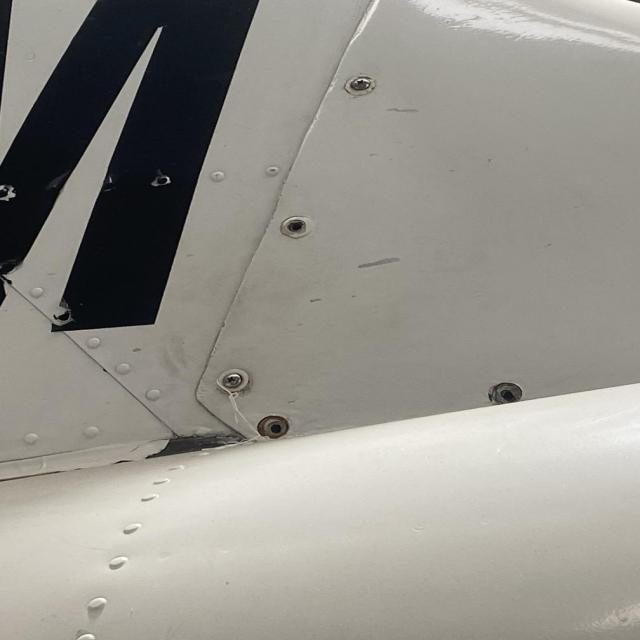Missing-head: (255, 416, 290, 439), (488, 382, 523, 405), (278, 215, 310, 238)
Paint-off: (357, 256, 397, 269), (302, 295, 330, 310), (382, 103, 417, 114), (347, 291, 364, 305)
